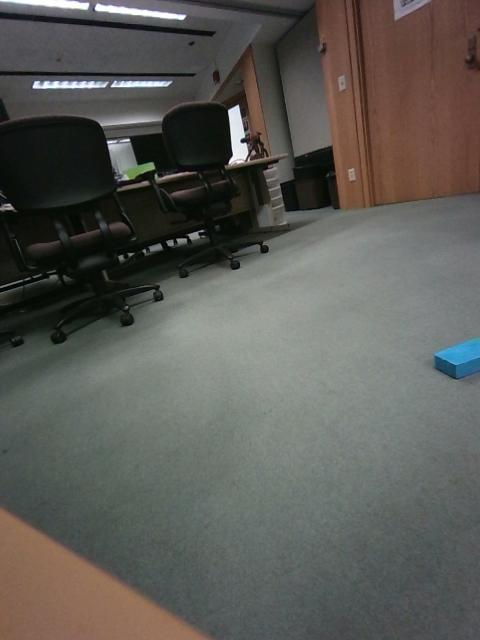block: (250, 346, 312, 420)
